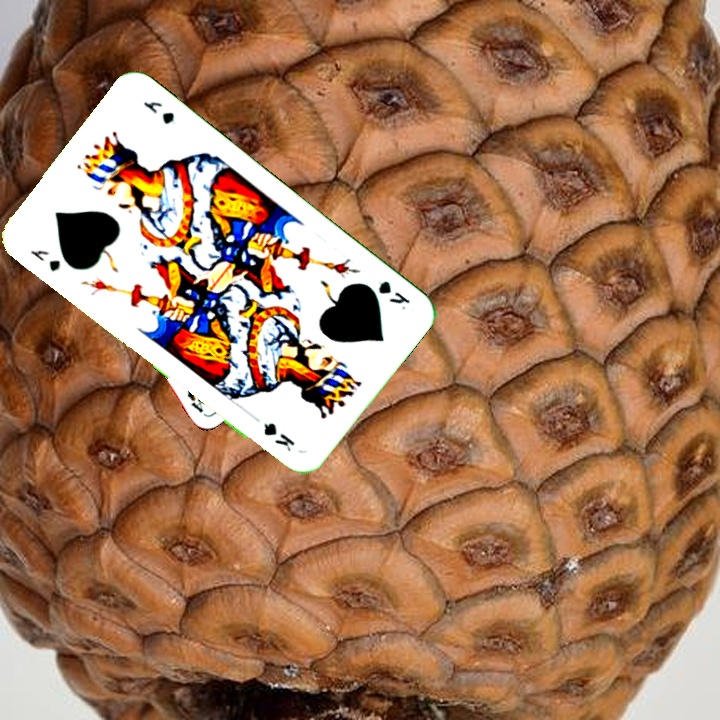GK: (374, 276, 413, 313), (26, 245, 63, 275)
